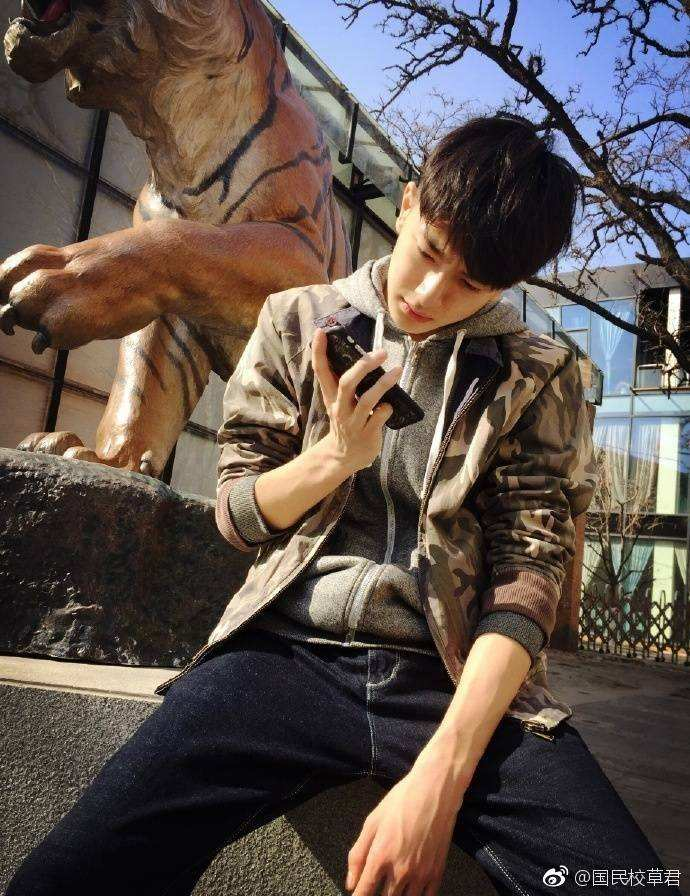person: (257, 126, 634, 872)
